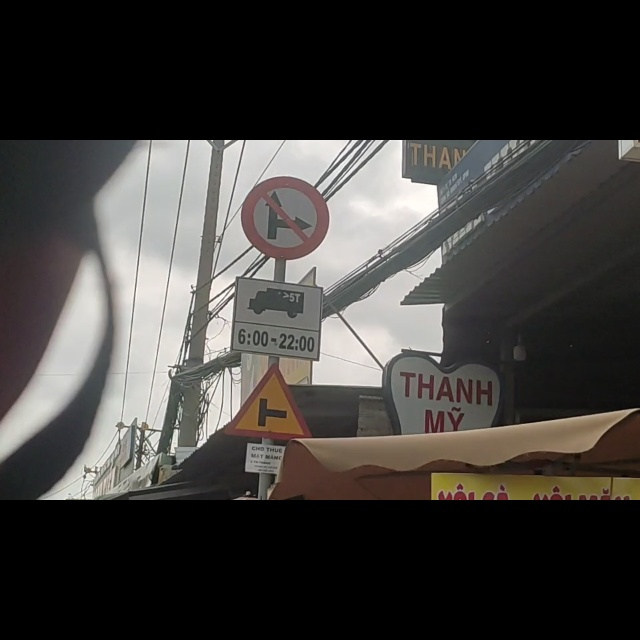bien_nguy_hiem: (243, 62, 328, 212), (236, 242, 319, 384), (227, 395, 312, 531)
